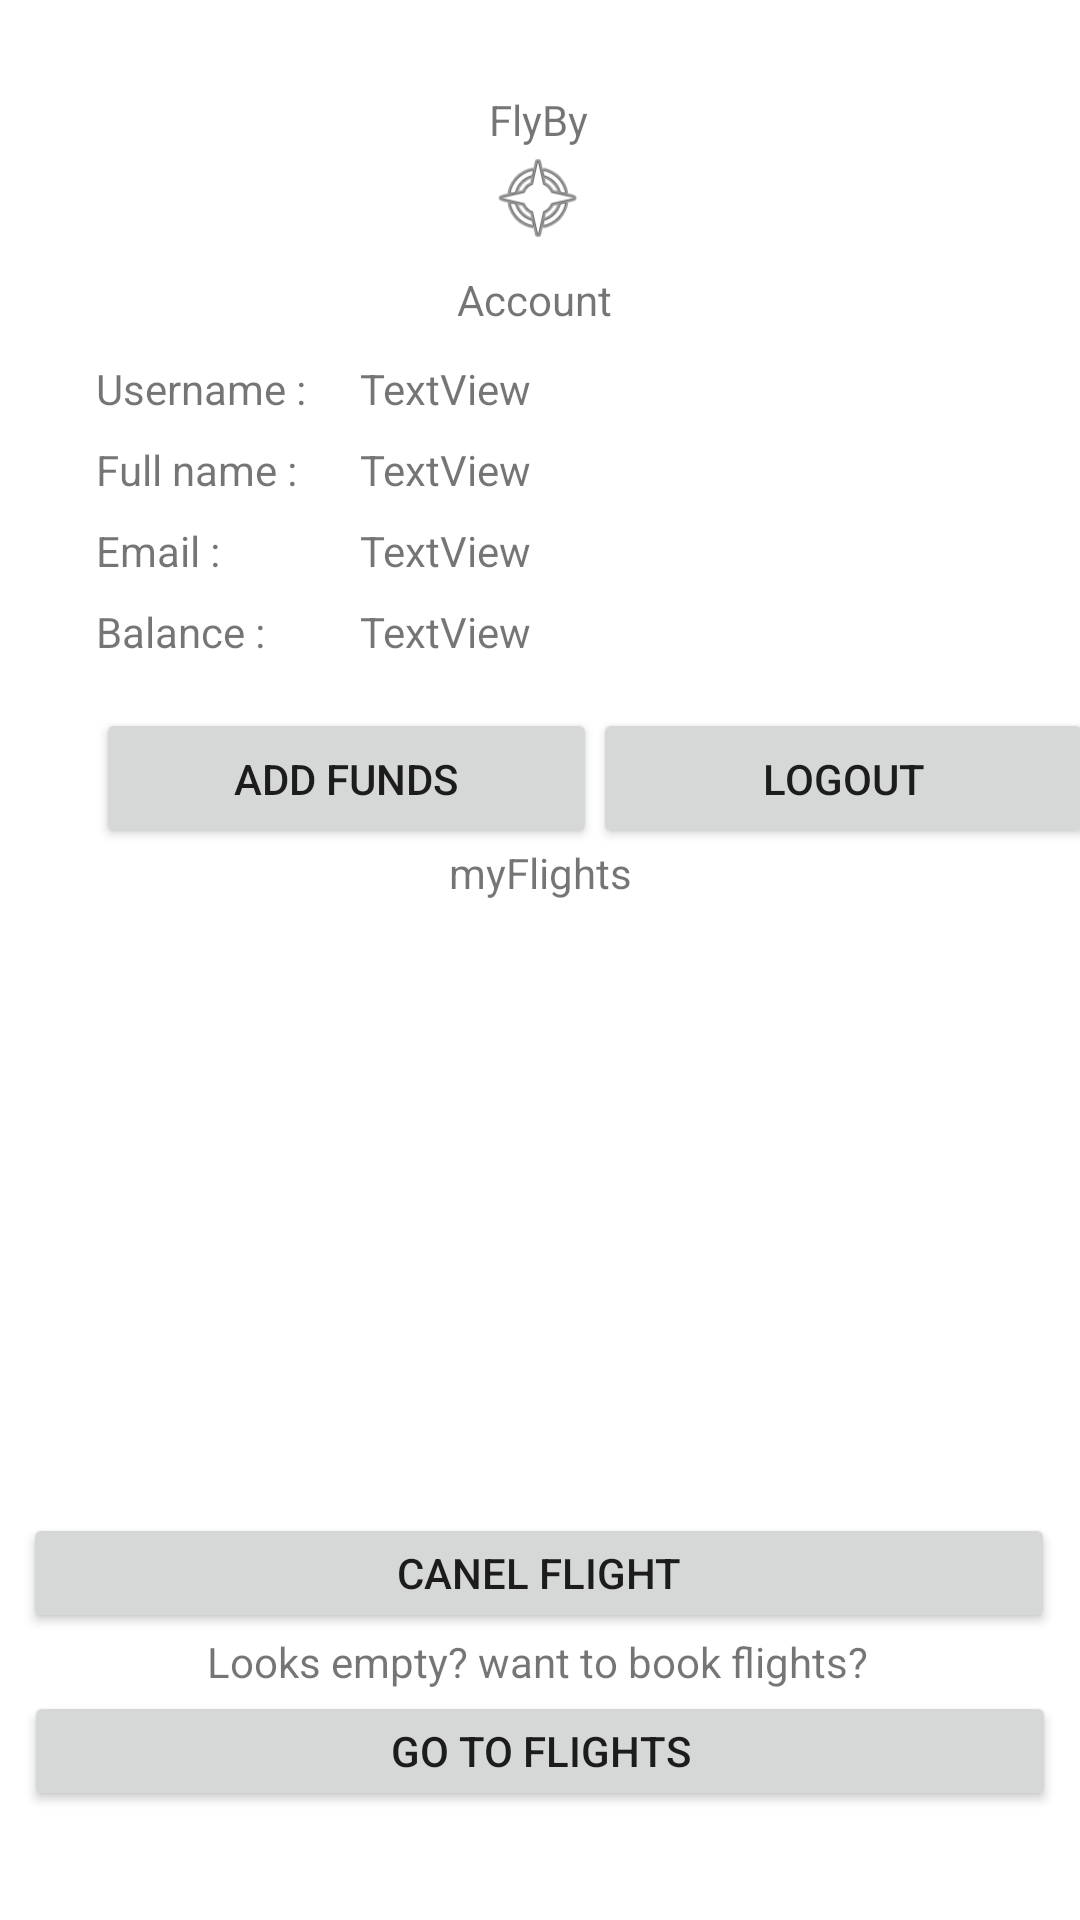

Named icons in this screenshot (1080w x 1920h) and their centers, [x,y]:
compass: [538,198]
